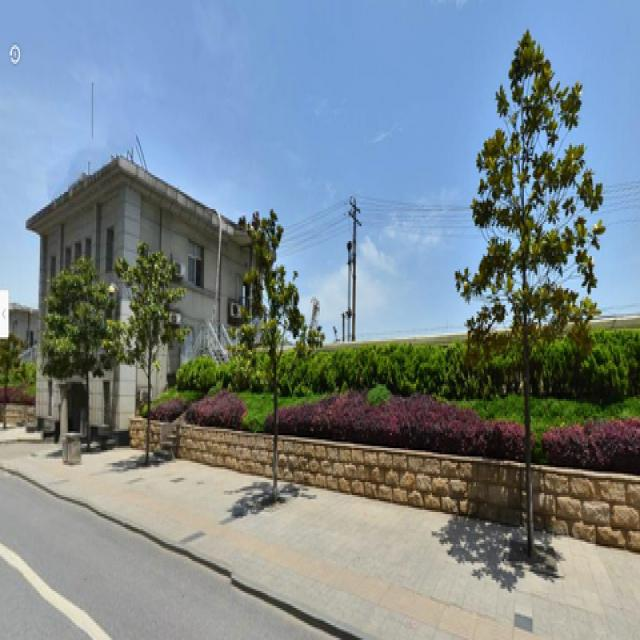magn: (472, 30, 595, 563)
